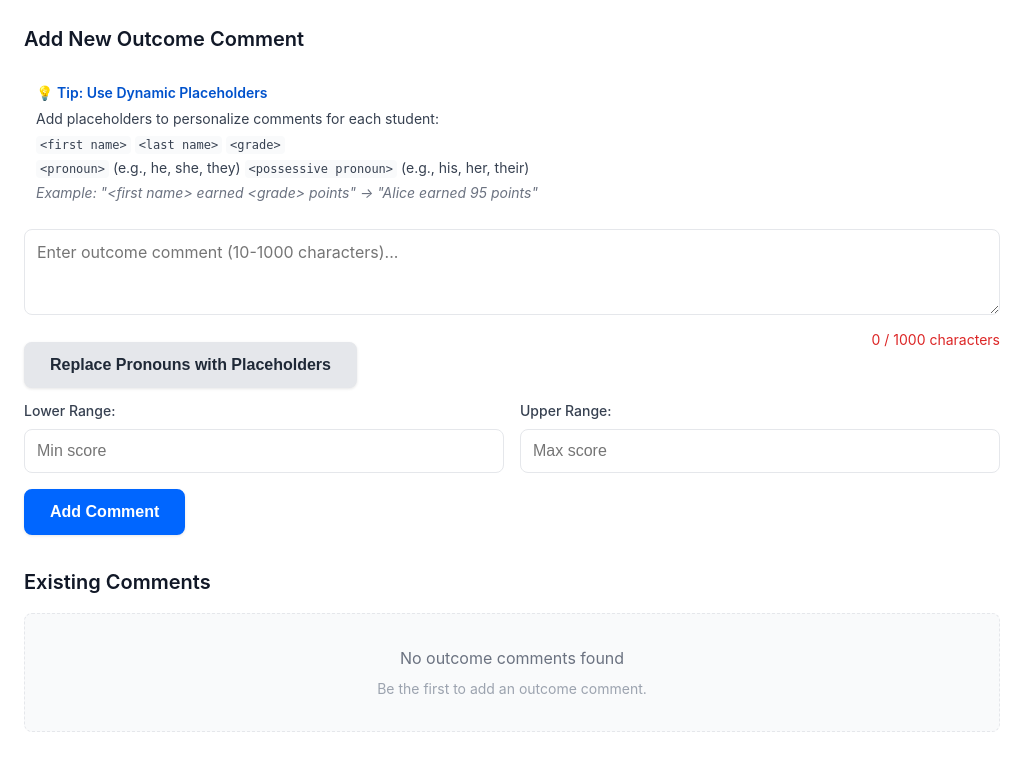
Test: OutcomeCommentsModal - Replace Pronouns Button (Story 1) › Edge Cases and Error Scenarios › should handle text with no matching pronouns
Set text without pronouns
Type "The student did excellent work in mathematics" into the text box named "Add new outcome comment" at (512, 272), box [24, 229, 1000, 315]
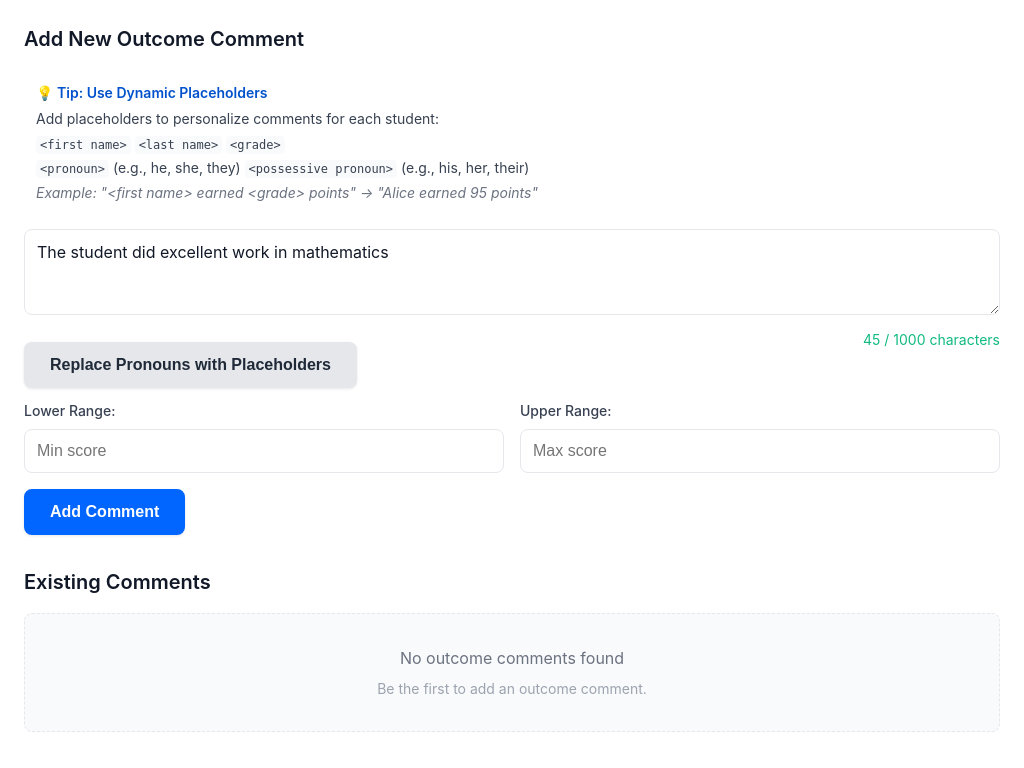
Click the button
Click the button "Replace Pronouns with Placeholders" at (190, 365), box [24, 342, 357, 388]
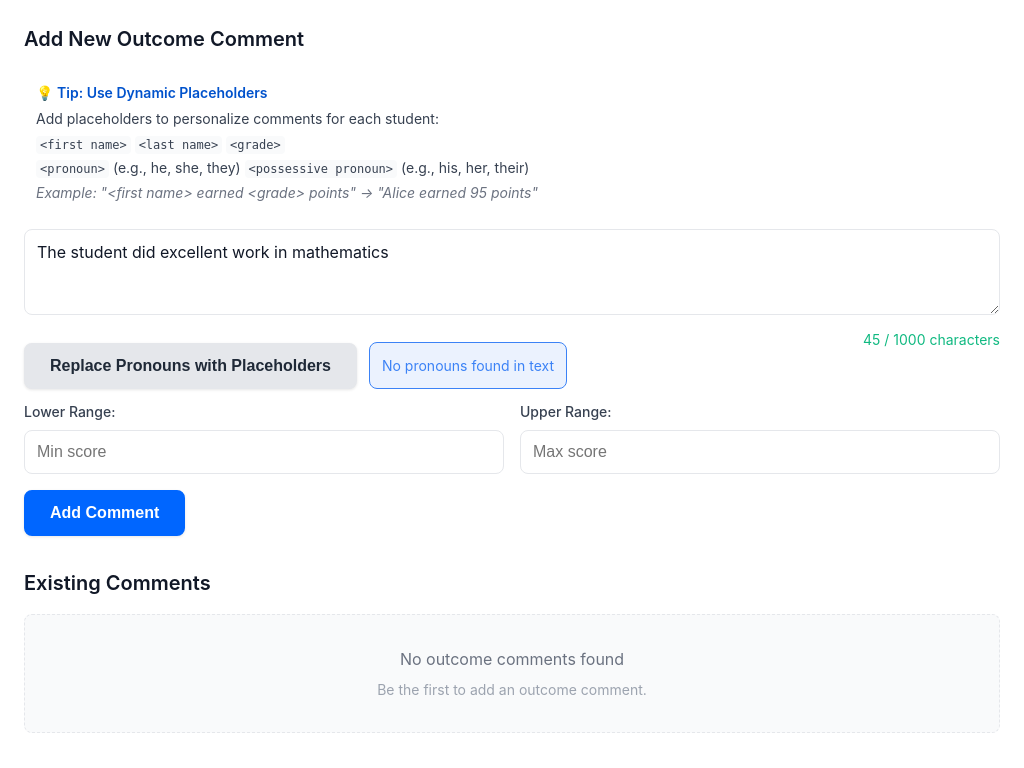
Expected: the text "No pronouns found in text" is shown, [369, 342, 567, 389]
